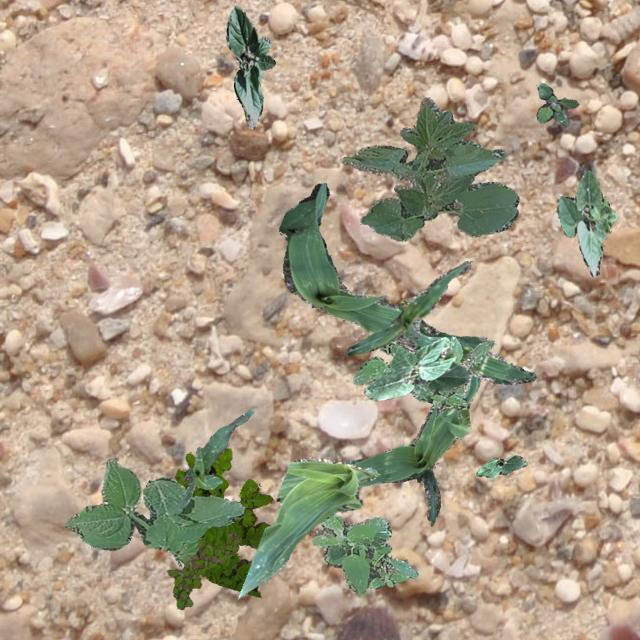crop: (278, 182, 534, 384), (340, 96, 518, 240), (344, 374, 480, 524), (236, 458, 380, 598), (344, 260, 470, 354), (178, 408, 252, 506), (556, 168, 618, 276), (364, 336, 468, 400), (224, 4, 274, 128), (474, 454, 526, 476)
weed: (65, 458, 244, 562), (175, 448, 272, 596), (310, 512, 416, 594), (352, 339, 466, 408), (167, 530, 240, 608), (446, 334, 492, 394), (536, 82, 578, 125)
